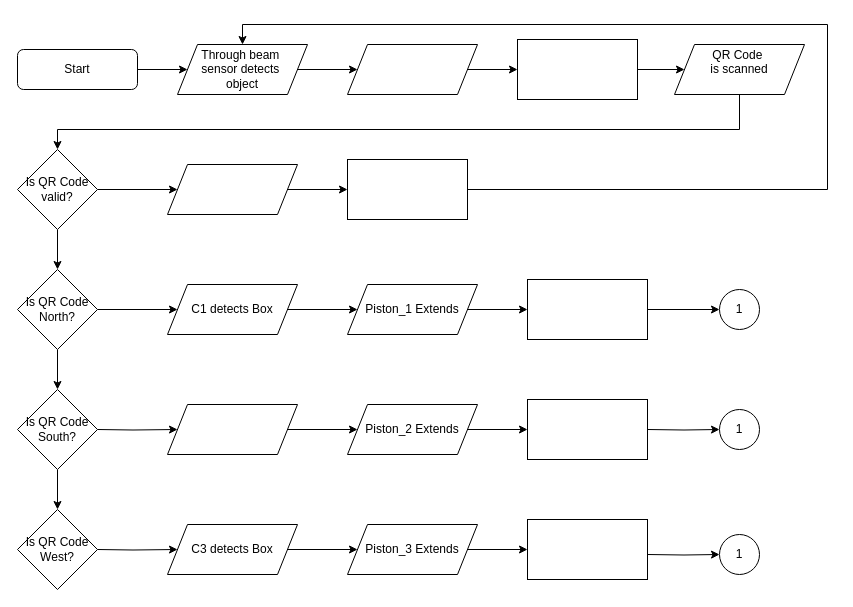
Some shapes in this 853 by 607 pixel diagram are drawn without their labels. The shapes that lost their labels are listed below. From the top down, each one's box as (x1, y1, x2, y2) in pixels, then its label:
(346, 44, 478, 94): Stopper opens
(516, 38, 638, 100): Box slides down to Conveyor
(166, 164, 298, 214): Piston extends
(346, 158, 468, 220): Box ejected
(526, 278, 648, 340): Box in North section
(166, 404, 298, 454): C2 detects Box
(526, 398, 648, 460): Box in South section
(526, 518, 648, 580): Box in West section
